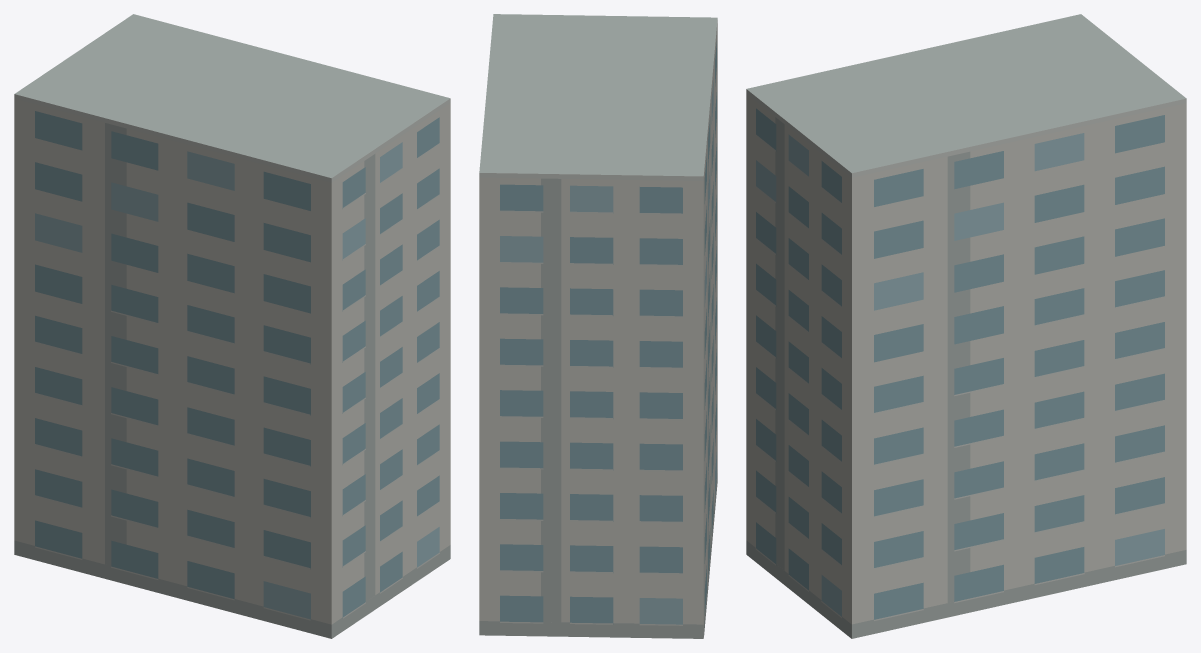
The model's file is residential-adadea43-6b7f-4f70-bc2a-f8166ee19715.glb.
3 views of the same model, side by side, from view 1: azimuth 30°, elevation 25°; view 2: azimuth 150°, elevation 25°; view 3: azimuth 270°, elevation 25° (orthographic).
Parts seen in each view (by area): view 1: residential-adadea43-6b7f-4f70-bc2a-f8166ee19715.tmp; view 2: residential-adadea43-6b7f-4f70-bc2a-f8166ee19715.tmp; view 3: residential-adadea43-6b7f-4f70-bc2a-f8166ee19715.tmp.
Boxes of the visible parts, x1,y1,x2,y2 form: residential-adadea43-6b7f-4f70-bc2a-f8166ee19715.tmp: [14, 14, 450, 638]; residential-adadea43-6b7f-4f70-bc2a-f8166ee19715.tmp: [479, 14, 717, 638]; residential-adadea43-6b7f-4f70-bc2a-f8166ee19715.tmp: [746, 14, 1186, 638].
Size of the model in its own units: 17.61 by 24 by 20.58.
